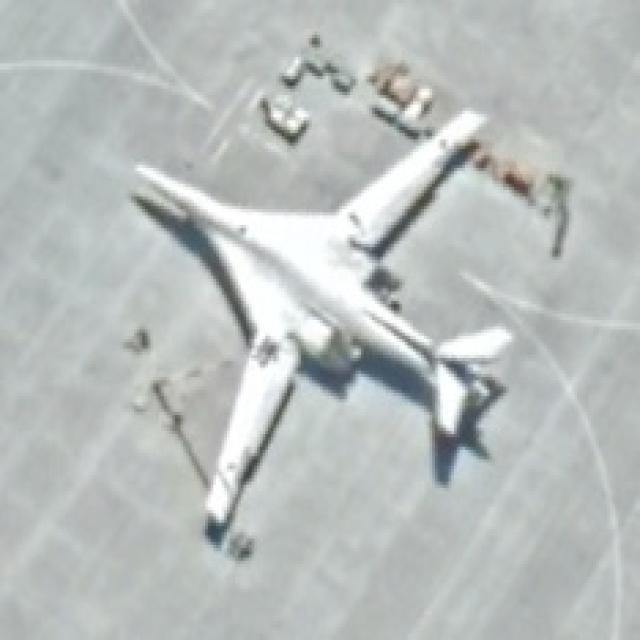B-1_TopDown: (123, 95, 572, 561)
